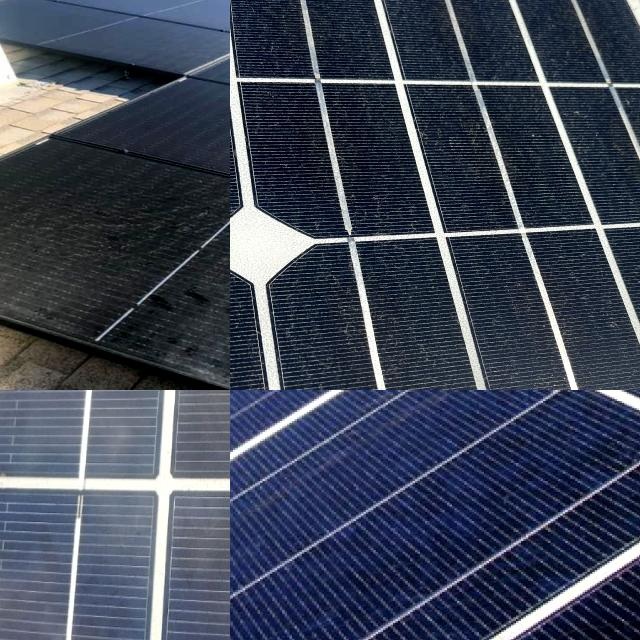crack: (230, 0, 640, 390), (230, 390, 640, 640)
dust: (0, 158, 208, 241), (121, 251, 230, 367)
